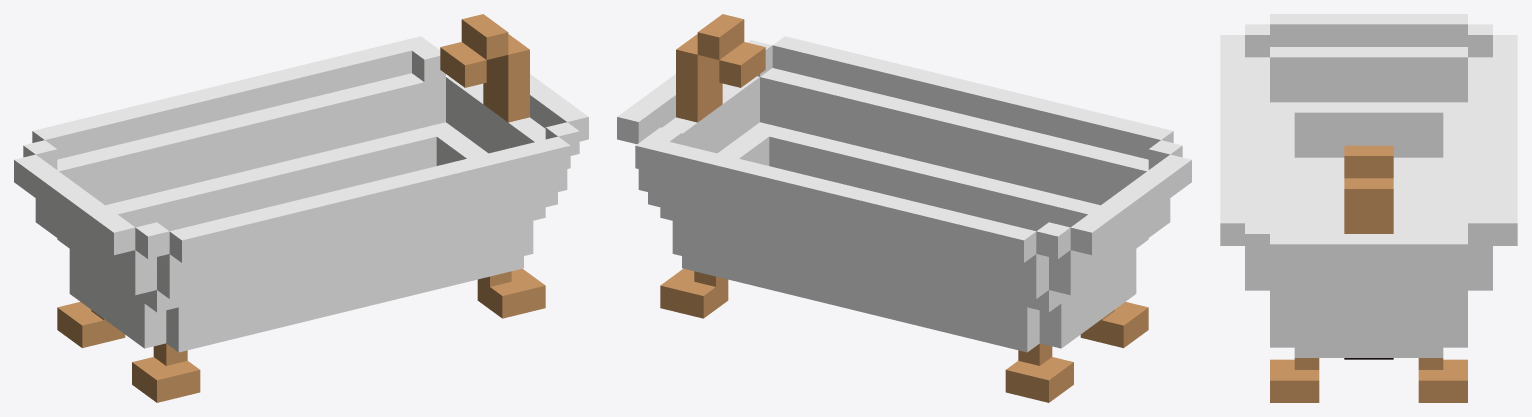
The model's file is Bathtub.obj.
The picture shows the model from 3 angles, left to right: view 1: azimuth 30°, elevation 25°; view 2: azimuth 150°, elevation 25°; view 3: azimuth 270°, elevation 25°; orthographic projection.
Size of the model in its own units: 22 by 11 by 12.
1 material, 1 textured.
